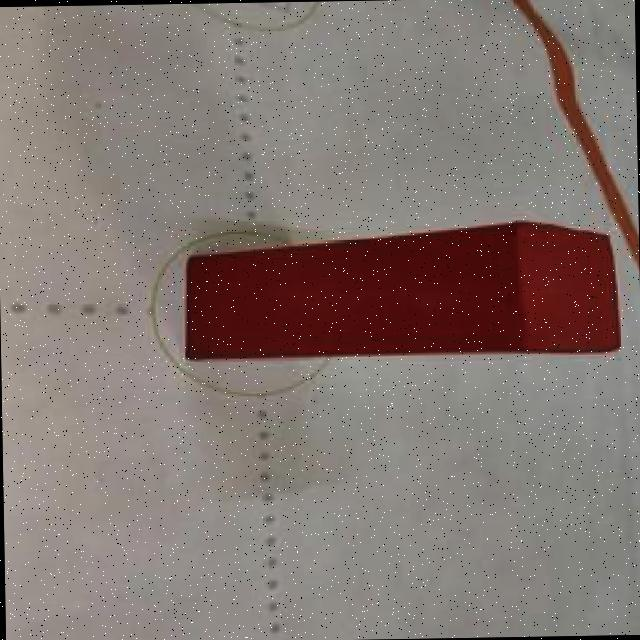redbox: (182, 218, 624, 364)
